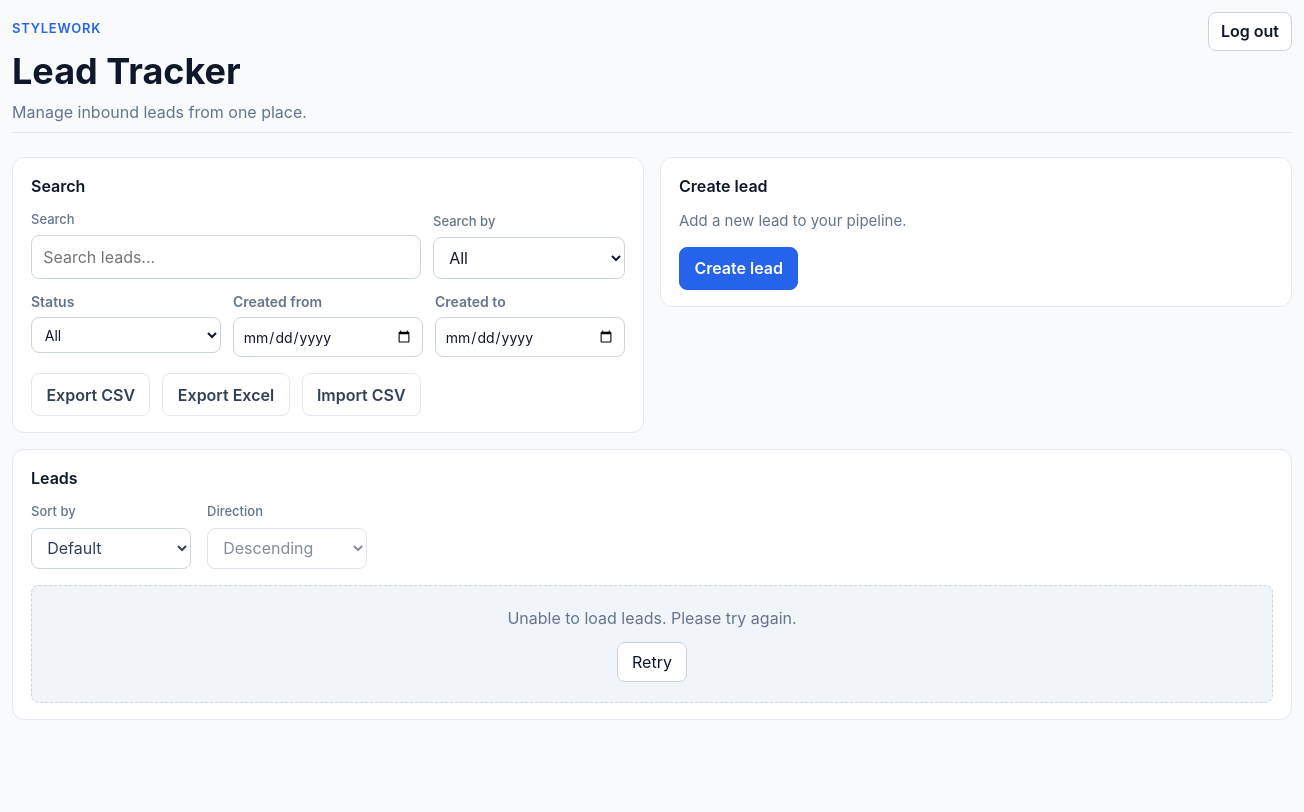
Scenario: LeadTrackerPage › lead list › shows API error state and Retry control
The image size is (1304, 812).
Check: the text "Unable to load leads. Please try again." is shown, box [507,608,797,628]
Click the button "Retry": (652, 662) [618,642,687,682]
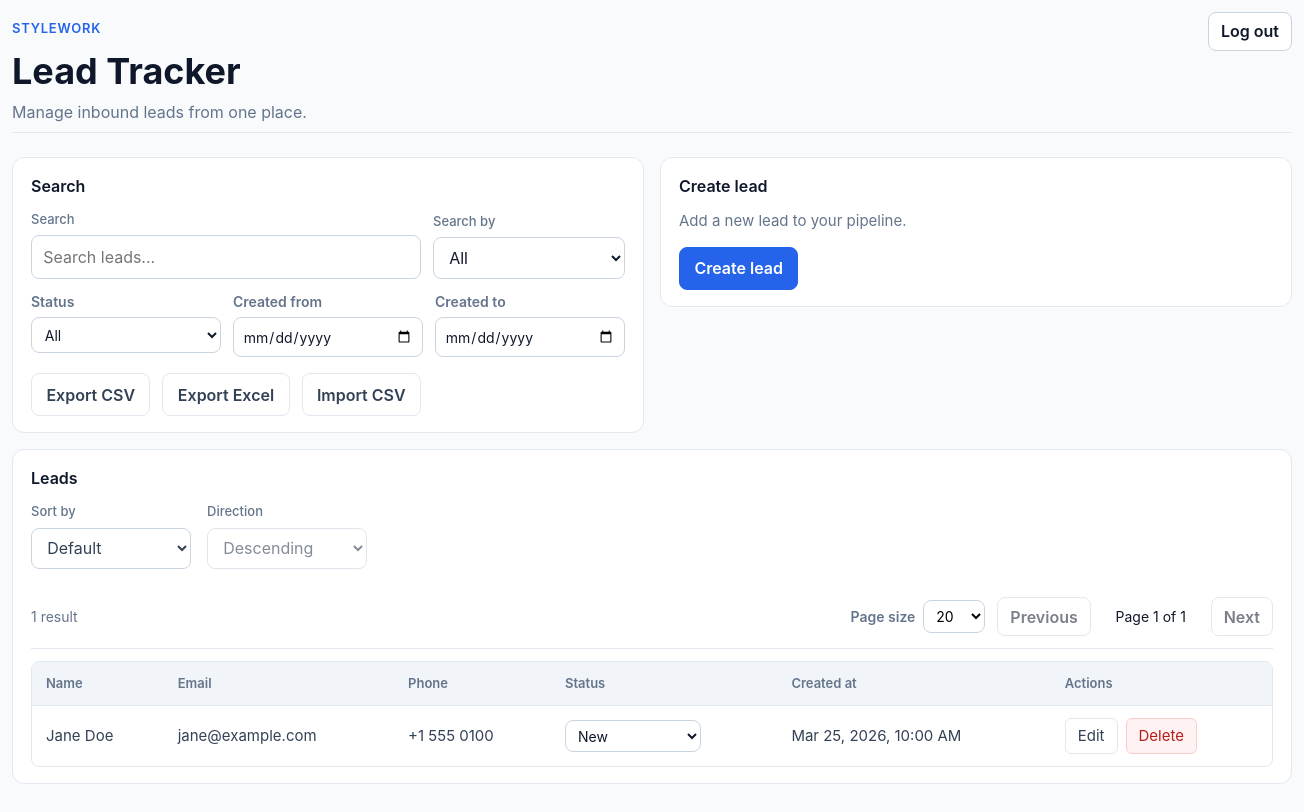
Check: the text "Jane Doe" is shown, box [32,706,164,766]
